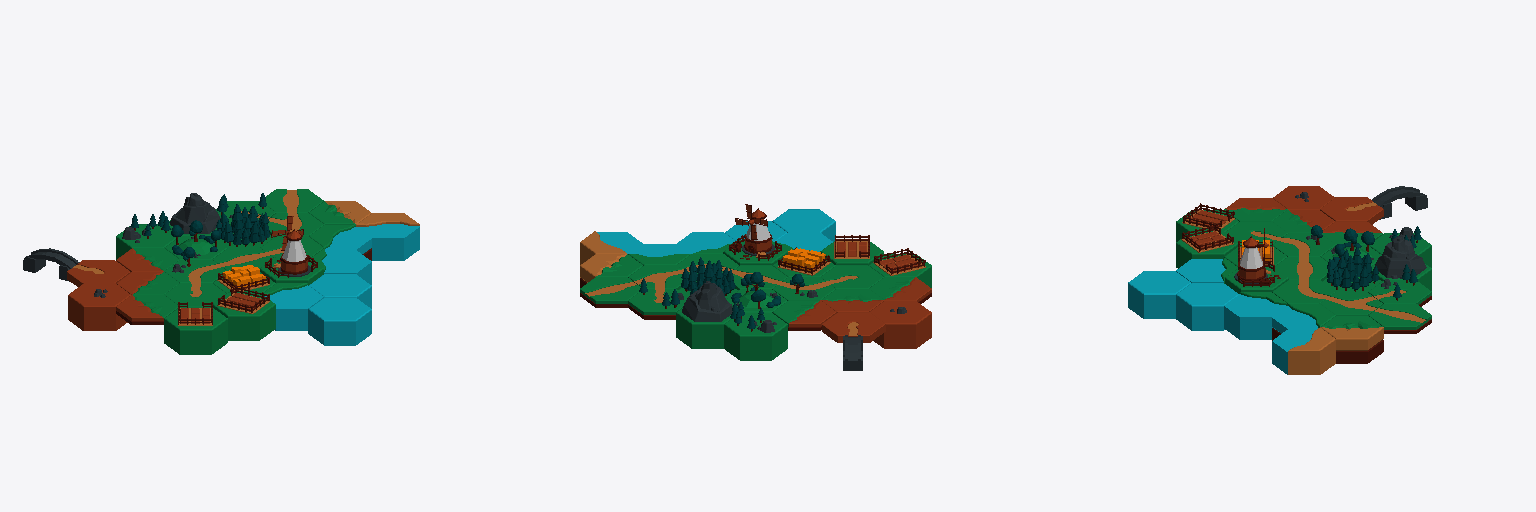
Rendered from castletrack.obj.
3 views of the same model, side by side, from view 1: azimuth 30°, elevation 25°; view 2: azimuth 150°, elevation 25°; view 3: azimuth 270°, elevation 25° (orthographic).
Parts seen in each view (by area): view 1: mergedBlocks; view 2: mergedBlocks; view 3: mergedBlocks.
Boxes of the visible parts, box(x1,y1,x2,y2) form: mergedBlocks: box(23, 189, 419, 354); mergedBlocks: box(580, 204, 931, 370); mergedBlocks: box(1128, 186, 1431, 374).
Size of the model in its own units: 14 by 3.16 by 10.97.